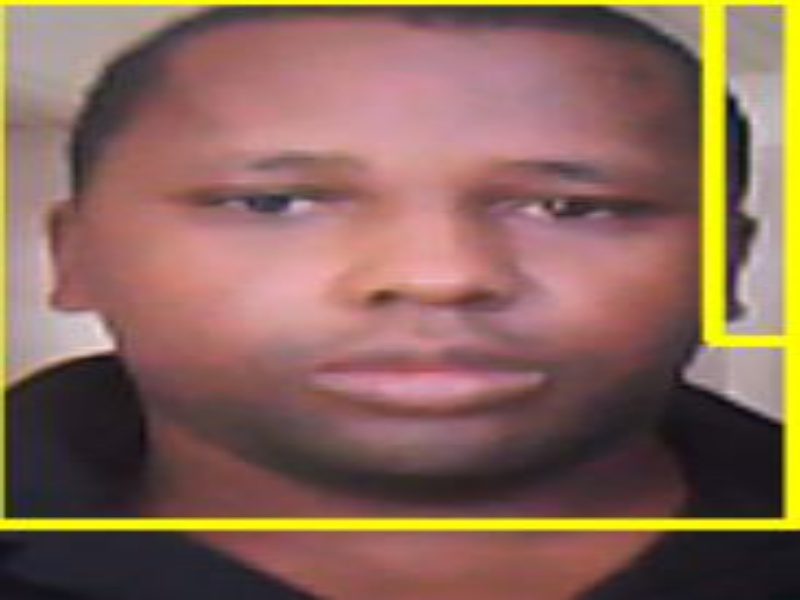TsisyArotava: (32, 26, 787, 562)
